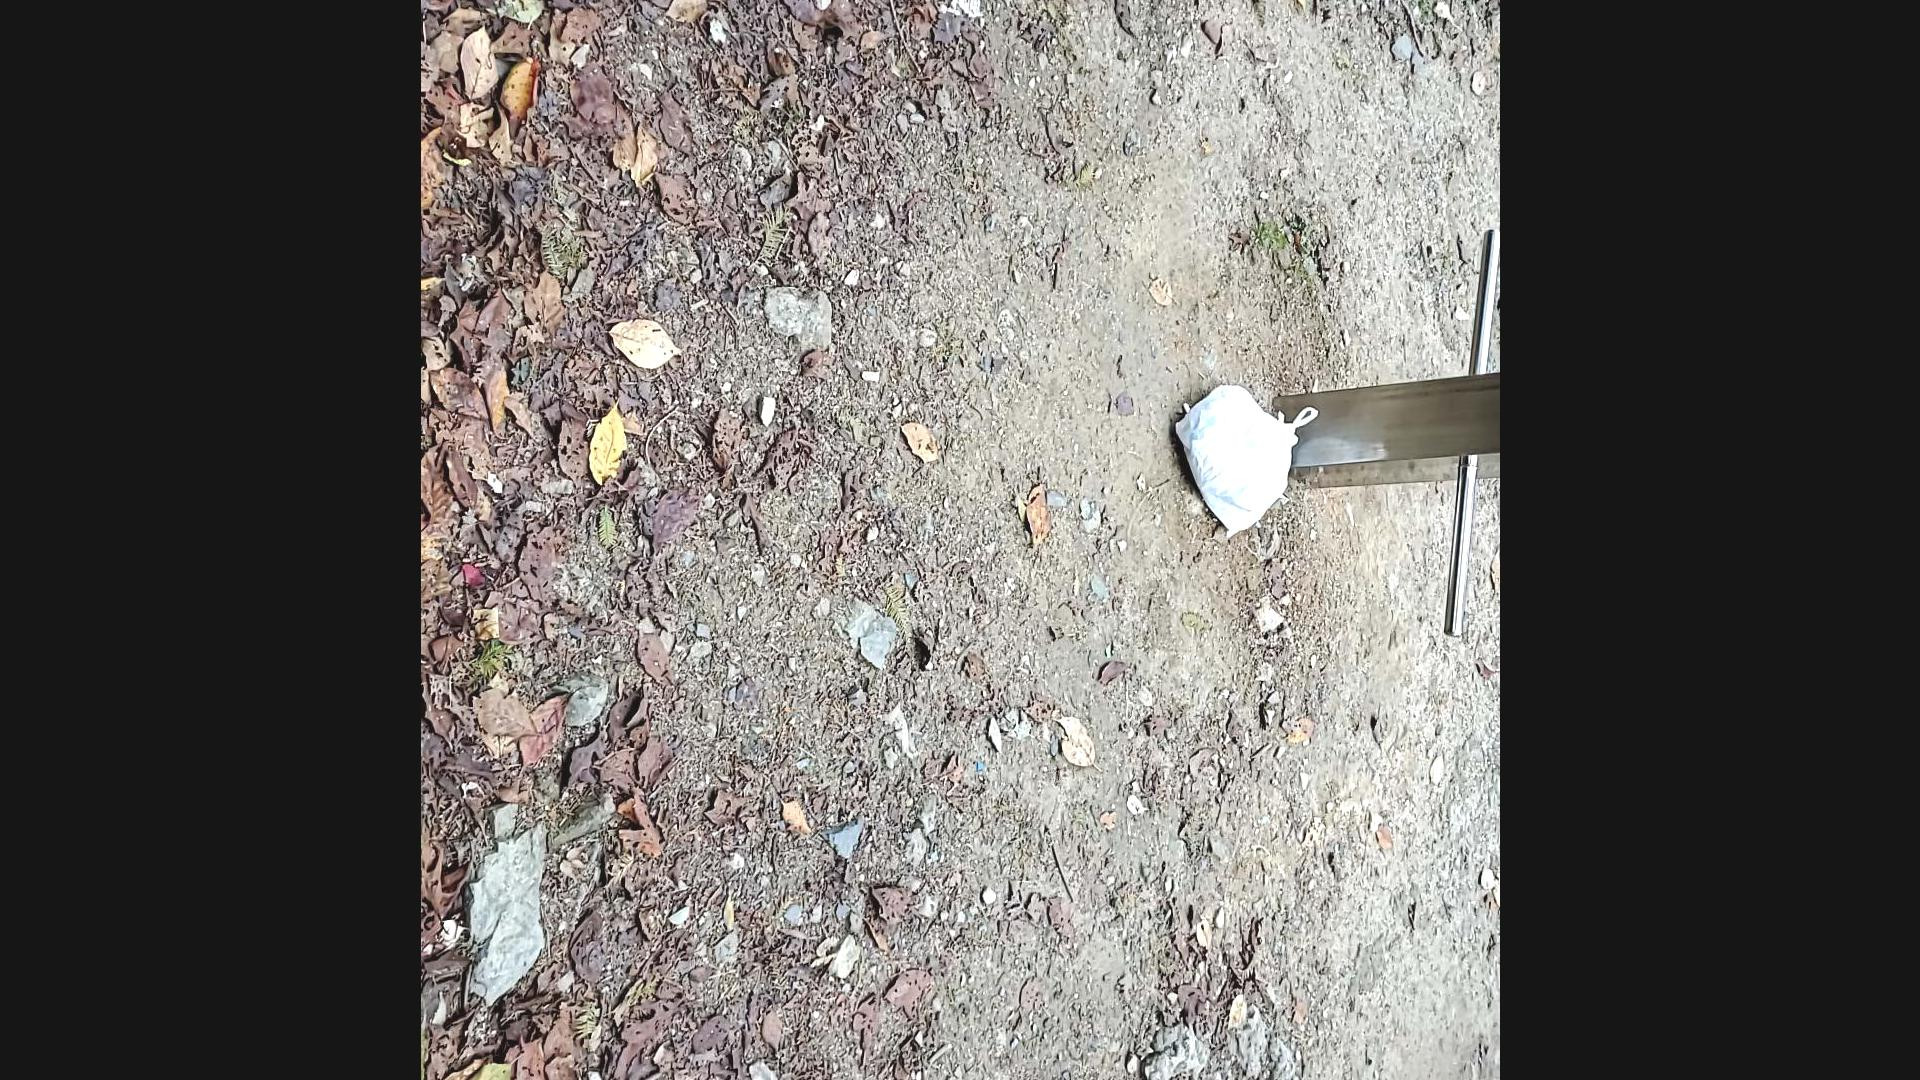white_bag: (1163, 367, 1327, 547)
